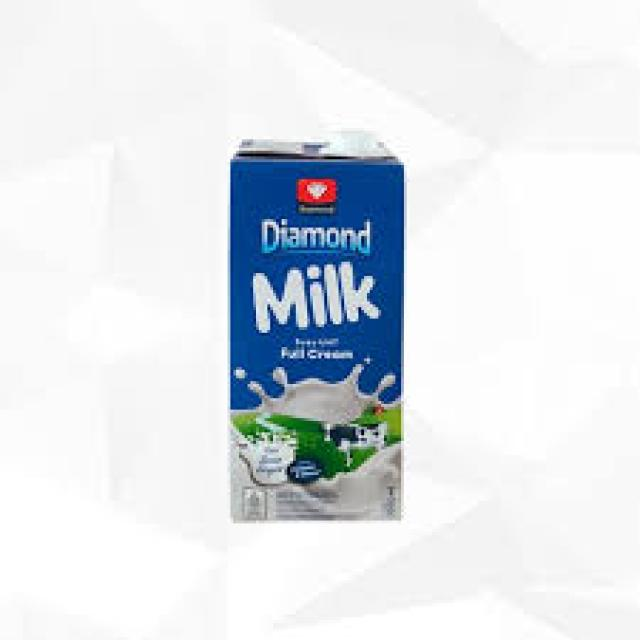susu_kotak: (210, 127, 420, 544)
